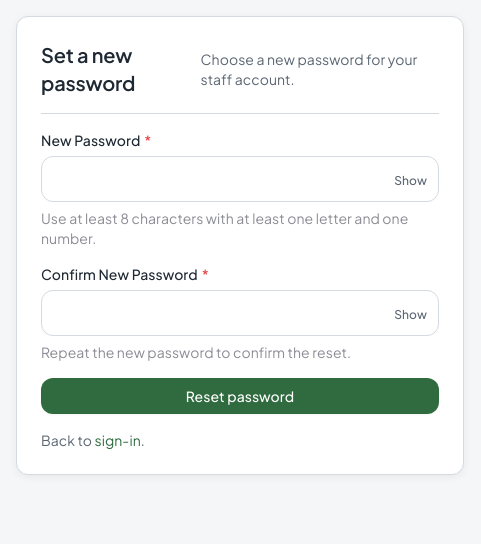
Test: auth flows › reset password submits the token and new password
The image size is (481, 544).
Expected: the heading "Set a new password" is shown, x1=41 y1=42 x2=135 y2=95
Step 1. Type "abc12345" into the password field labelled "New Password*" → point(240, 179), box x1=41 y1=156 x2=439 y2=202
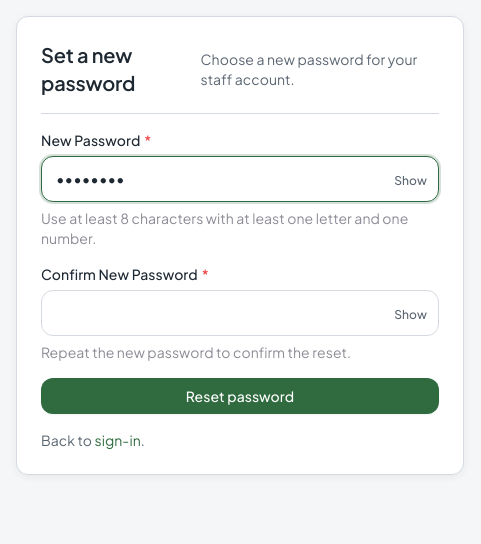
Step 2. Type "abc12345" into the password field labelled "Confirm New Password*" → point(240, 313), box x1=41 y1=290 x2=439 y2=336
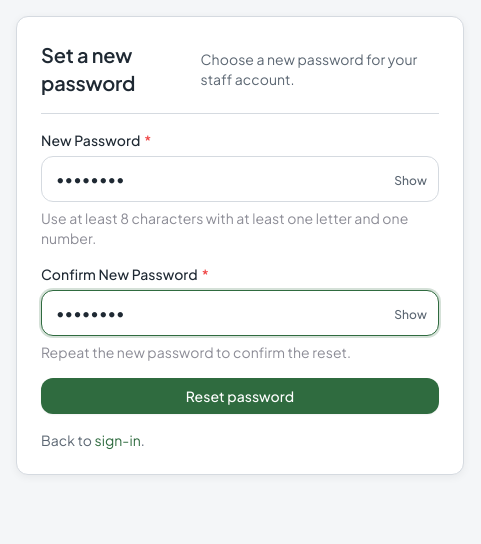
Step 3. Click the button "Reset password" → point(240, 396), box x1=41 y1=378 x2=439 y2=414
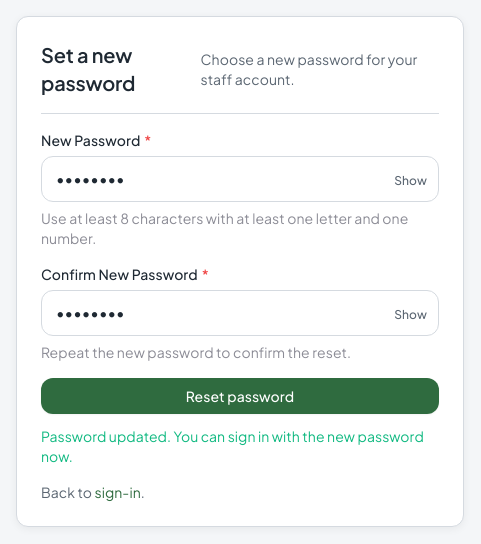
Result: the text "Password updated. You can sign in with the new password now." is shown at x1=41 y1=426 x2=439 y2=466
